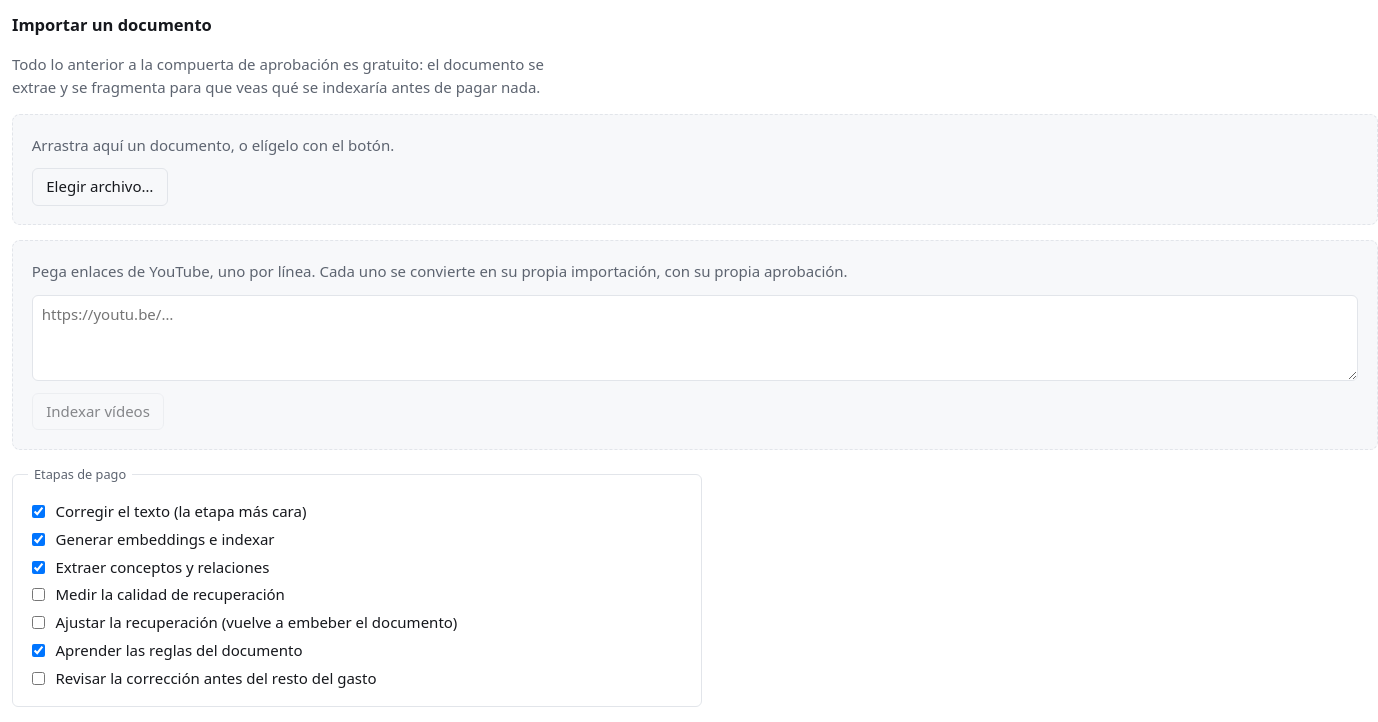
Scenario: choosing a file to import › keeps every file chosen, rather than the first and a count of the rest
Click the button "Elegir archivo…" at (100,187), box [32,168,168,206]
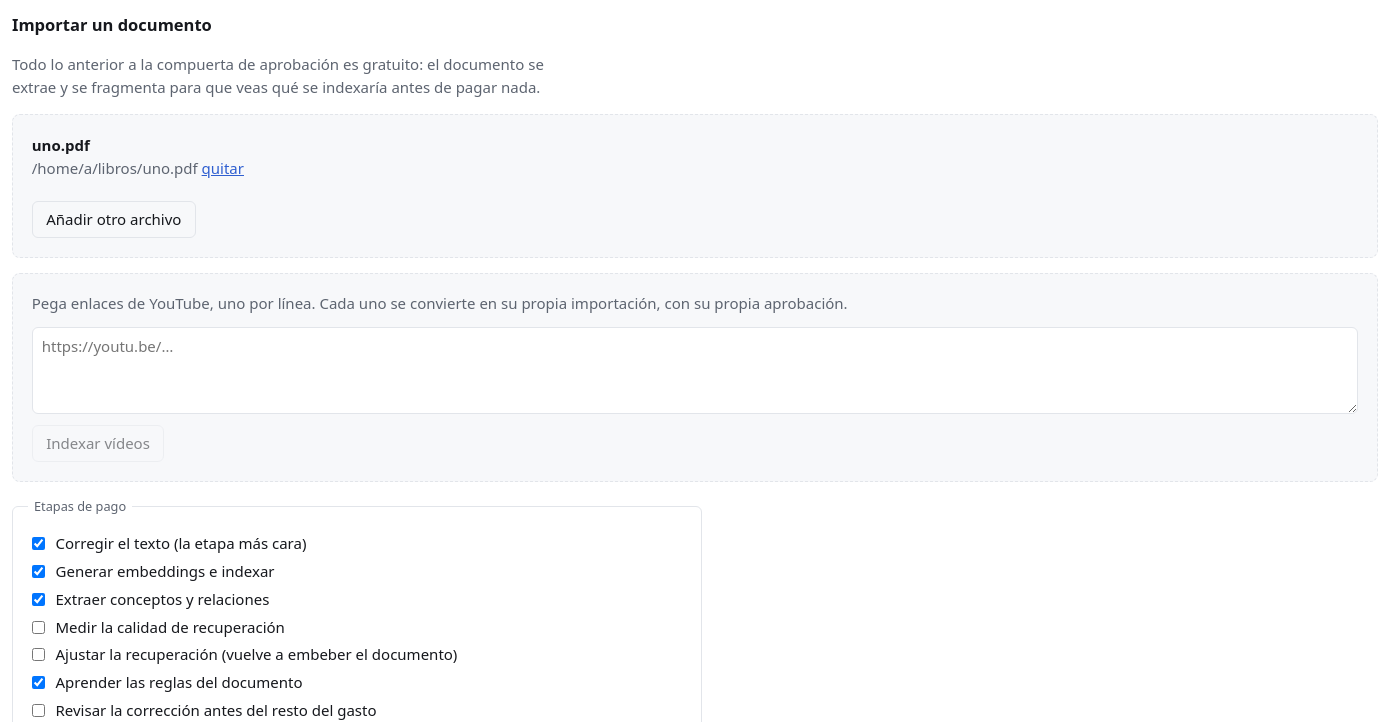
Now the text "uno.pdf" is shown, box [32,135,90,155]
Click the button "Añadir otro archivo" at (114,219), box [32,201,196,238]
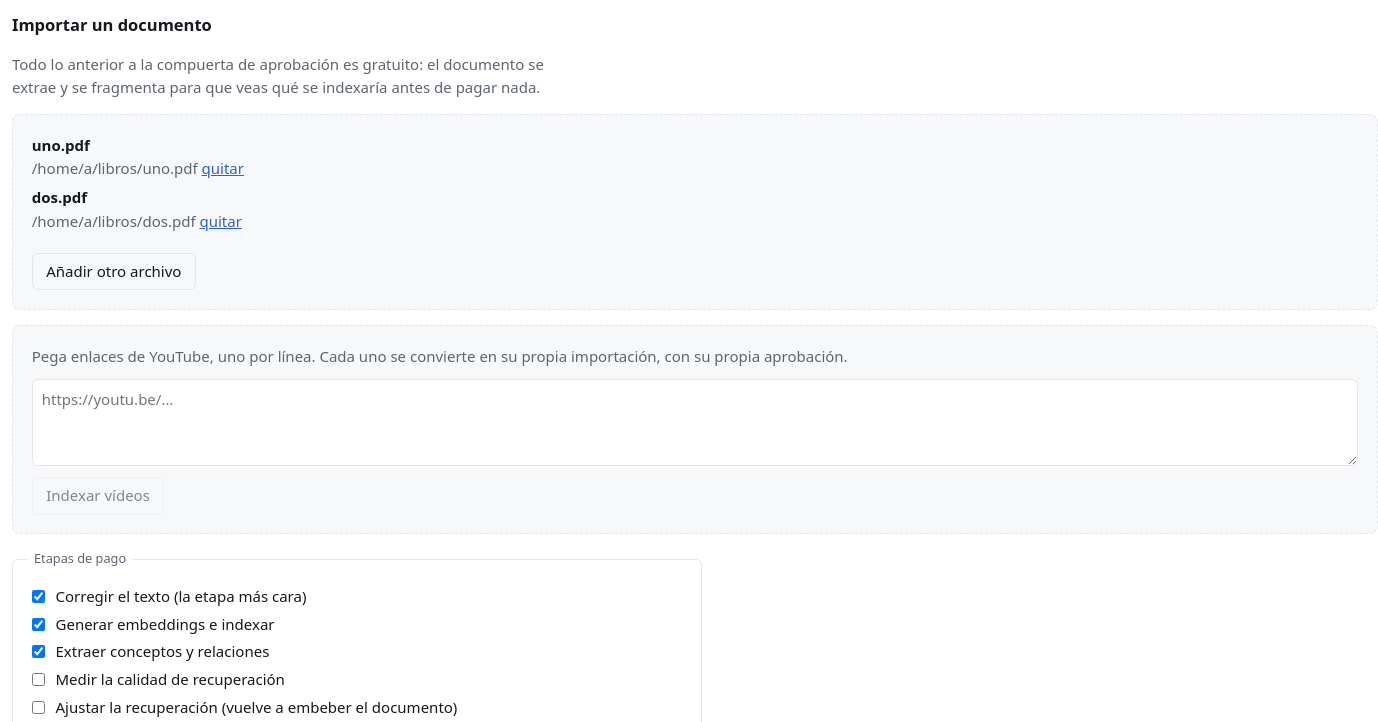
Now the text "uno.pdf" is shown, box [32,135,90,155]
Now the text "dos.pdf" is shown, box [32,187,87,207]
